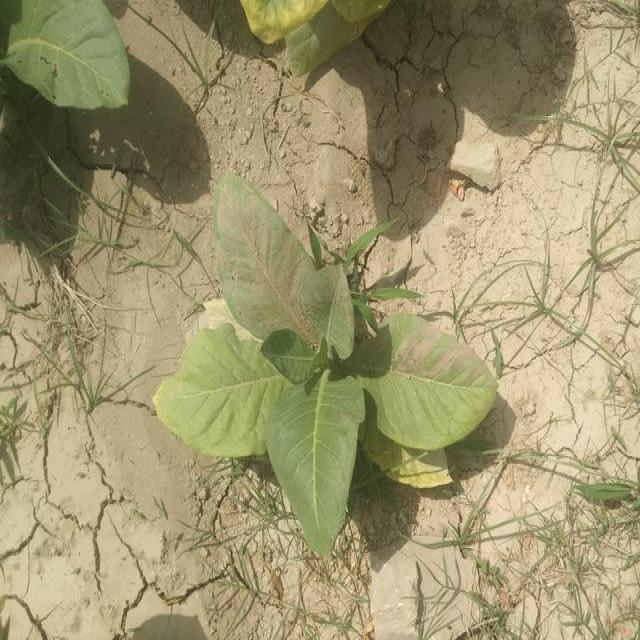crop: (161, 186, 492, 542), (0, 2, 132, 115), (232, 0, 399, 72)
